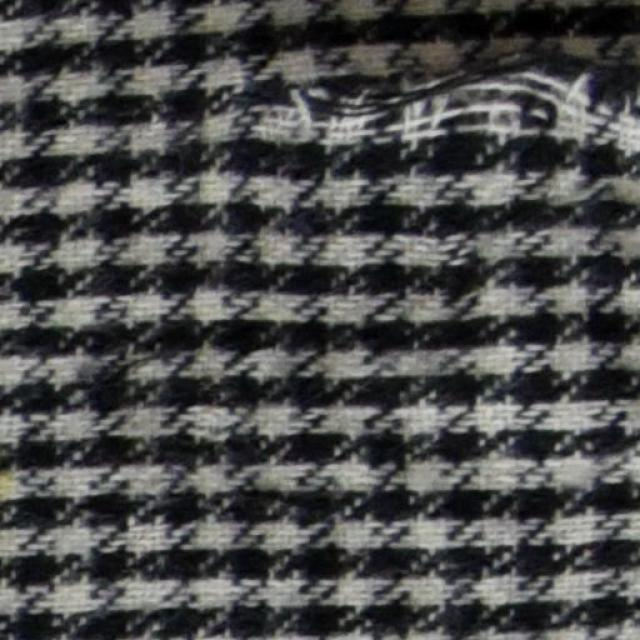Snag: (245, 21, 639, 163)
